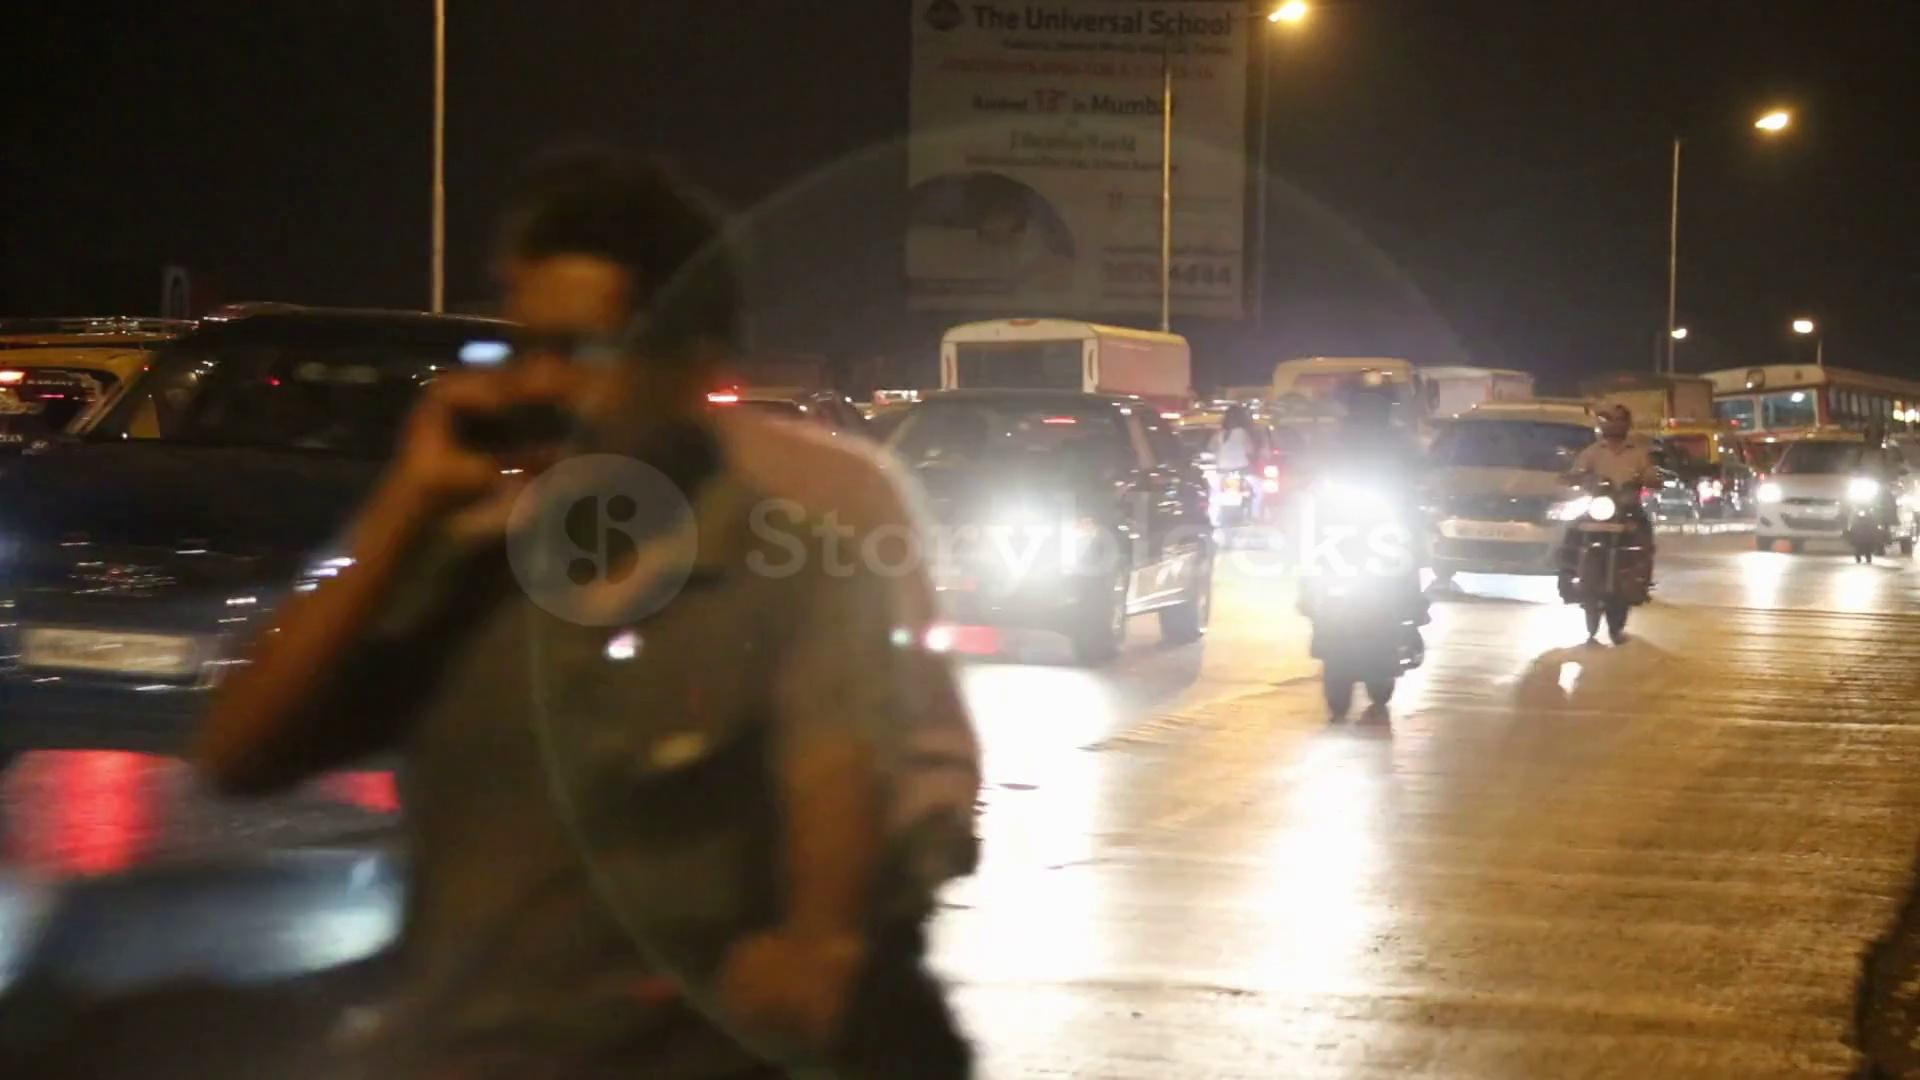person: (189, 144, 985, 1078)
rider: (1292, 389, 1432, 723), (1559, 404, 1664, 641), (1833, 411, 1901, 563)
with_helmate: (1337, 359, 1399, 431)
without_helmate: (1601, 399, 1631, 439)
